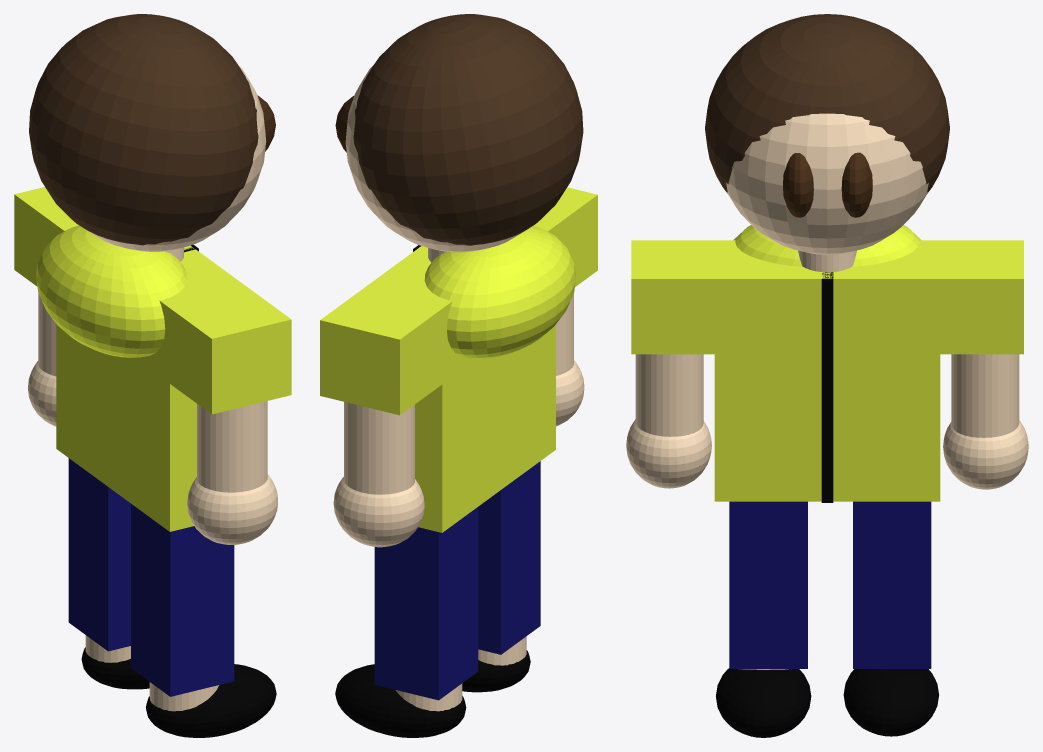
File: dean.fbx
The picture shows the model from 3 angles, left to right: view 1: azimuth 30°, elevation 25°; view 2: azimuth 150°, elevation 25°; view 3: azimuth 270°, elevation 25°; orthographic projection.
Parts seen in each view (by area): view 1: Sphere.001, Cube, Cube.004, Sphere.004, Cube.001, Sphere.015, Cube.003, Sphere.018, Cube.002, Sphere, Sphere.014, Sphere.019 (+1 smaller); view 2: Sphere.001, Cube, Cube.003, Sphere.004, Cube.002, Sphere.014, Cube.004, Sphere.019, Cube.001, Sphere, Sphere.015, Sphere.018 (+1 smaller); view 3: Cube, Sphere.001, Sphere, Cube.004, Cube.003, Cube.002, Cube.001, Sphere.014, Sphere.015, Sphere.018, Sphere.019, Cube.005 (+4 smaller).
Boxes of the visible parts, x1,y1,x2,y2 form: Sphere.001: (29, 14, 258, 245); Cube: (56, 221, 248, 531); Cube.004: (131, 504, 234, 696); Sphere.004: (36, 225, 187, 357); Cube.001: (169, 288, 291, 414); Sphere.015: (187, 401, 277, 544); Cube.003: (68, 458, 130, 651); Sphere.018: (146, 664, 276, 737); Cube.002: (14, 187, 73, 286); Sphere: (83, 65, 266, 251); Sphere.014: (28, 293, 56, 426); Sphere.019: (81, 635, 149, 689); Sphere.001: (353, 14, 583, 245); Cube: (363, 221, 555, 532); Cube.003: (374, 507, 478, 700); Sphere.004: (424, 225, 575, 358); Cube.002: (320, 289, 442, 415); Sphere.014: (333, 402, 424, 547); Cube.004: (478, 461, 540, 654); Sphere.019: (335, 664, 466, 737); Cube.001: (539, 187, 597, 286); Sphere: (345, 65, 528, 252); Sphere.015: (556, 293, 584, 426); Sphere.018: (462, 636, 530, 692); Cube: (714, 240, 940, 501); Sphere.001: (705, 14, 949, 193); Sphere: (726, 113, 928, 254); Cube.004: (729, 501, 807, 668); Cube.003: (853, 501, 931, 668); Cube.002: (939, 240, 1023, 354); Cube.001: (631, 240, 715, 354); Sphere.014: (943, 354, 1028, 489); Sphere.015: (626, 354, 711, 488); Sphere.018: (716, 668, 811, 737); Sphere.019: (843, 669, 938, 736); Cube.005: (821, 272, 833, 502).
Bounding box in the file's own units: 219 × 670 × 357.
